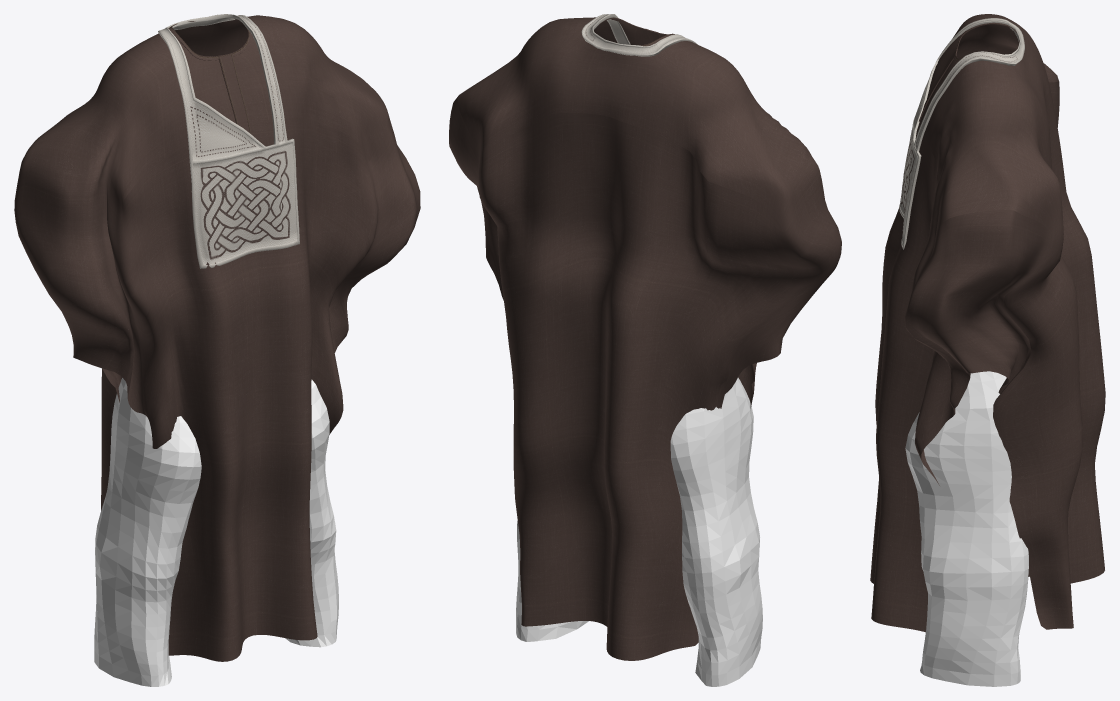
File: timzy-agbada.glb
3 views of the same model, side by side, from view 1: azimuth 30°, elevation 25°; view 2: azimuth 150°, elevation 25°; view 3: azimuth 270°, elevation 25° (orthographic). The views are drawn at different scales.
Visible parts, largest first — view 1: Cloth, Wool trousers, Cloth.002, Cloth.003; view 2: Cloth, Wool trousers, Cloth.002; view 3: Cloth, Wool trousers, Cloth.002.
Part boxes in pixels (x1,y1,x2,y2): Cloth: (14, 15, 420, 661); Wool trousers: (94, 378, 338, 686); Cloth.002: (158, 14, 299, 268); Cloth.003: (218, 53, 251, 134); Cloth: (449, 17, 841, 660); Wool trousers: (516, 377, 762, 686); Cloth.002: (581, 14, 697, 56); Cloth: (870, 14, 1105, 632); Wool trousers: (905, 371, 1028, 686); Cloth.002: (899, 18, 1024, 249).
Bounding box in the file's own units: 0.9507 × 1.52 × 0.5419.
Materials: 7 (6 with a texture image).
